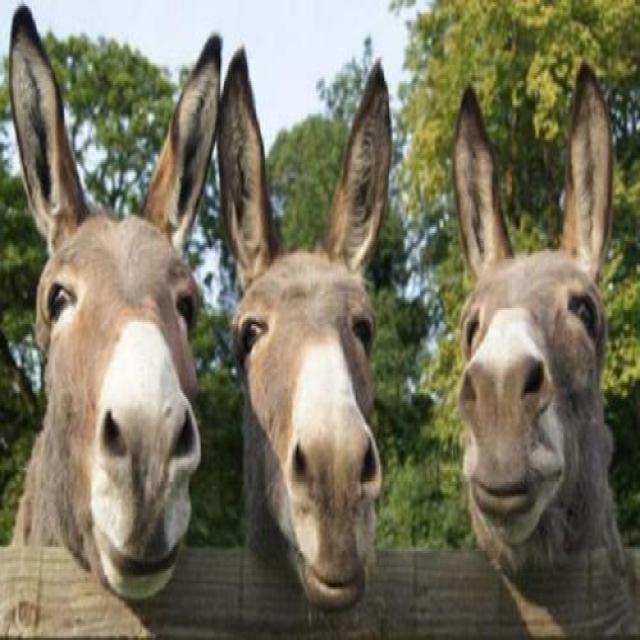Donkey: (8, 6, 222, 604), (216, 46, 394, 614), (452, 62, 614, 570)
